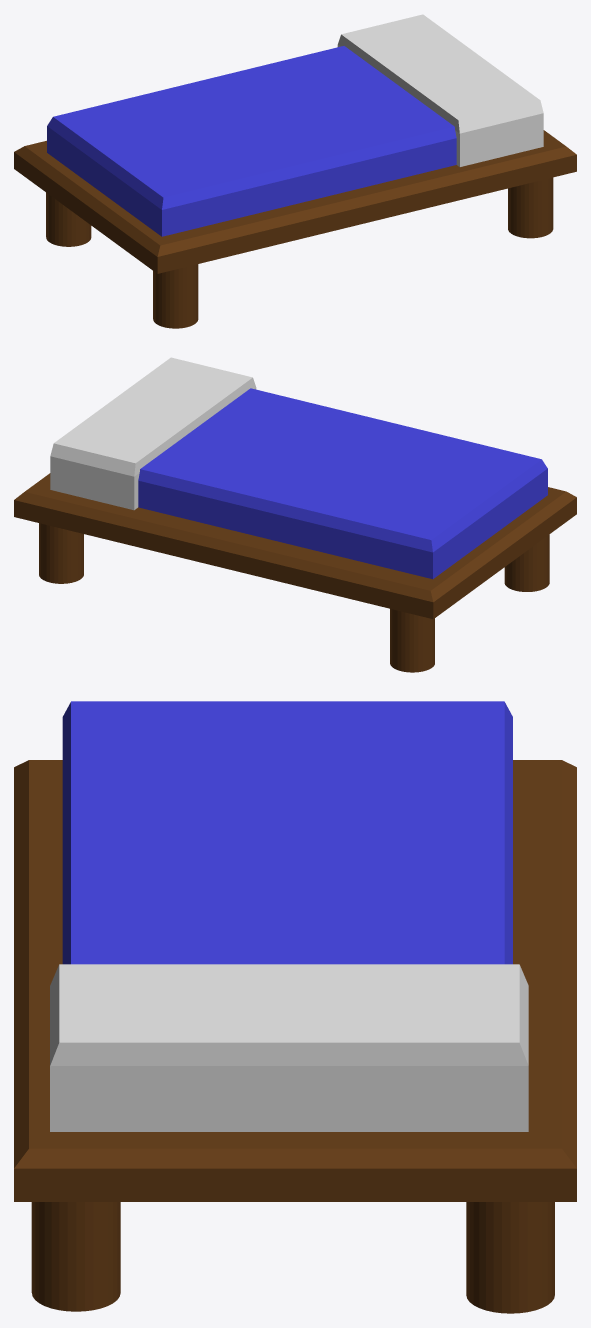
The model's file is lit.fbx.
3 views of the same model, one above another, from view 1: azimuth 30°, elevation 25°; view 2: azimuth 150°, elevation 25°; view 3: azimuth 270°, elevation 25° (orthographic). The views are drawn at different scales.
Visible parts, largest first — view 1: Cube.001, Cube, Cube.002, Cylinder, Cylinder.001, Cylinder.003; view 2: Cube.001, Cube, Cube.002, Cylinder.003, Cylinder.002, Cylinder; view 3: Cube.001, Cube.002, Cube, Cylinder.002, Cylinder.001.
Boxes of the visible parts, x1=… form: Cube.001: x1=47, y1=46, x2=456, y2=236; Cube: x1=14, y1=130, x2=576, y2=273; Cube.002: x1=337, y1=14, x2=543, y2=166; Cylinder: x1=153, y1=264, x2=198, y2=328; Cylinder.001: x1=508, y1=177, x2=553, y2=238; Cylinder.003: x1=46, y1=192, x2=91, y2=246; Cube.001: x1=138, y1=388, x2=547, y2=579; Cube: x1=14, y1=473, x2=576, y2=619; Cube.002: x1=50, y1=357, x2=256, y2=510; Cylinder.003: x1=390, y1=609, x2=434, y2=672; Cylinder.002: x1=39, y1=523, x2=83, y2=583; Cylinder: x1=504, y1=534, x2=549, y2=591; Cube.001: x1=62, y1=701, x2=512, y2=964; Cube.002: x1=50, y1=964, x2=528, y2=1131; Cube: x1=14, y1=760, x2=576, y2=1201; Cylinder.002: x1=466, y1=1202, x2=554, y2=1313; Cylinder.001: x1=31, y1=1202, x2=120, y2=1311.
Size of the model in its own units: 699 by 214 by 414.
